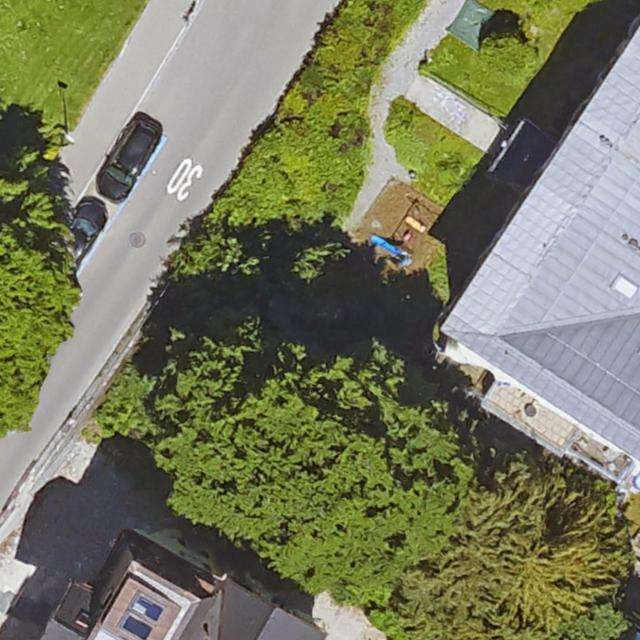tree: (151, 338, 462, 597), (439, 460, 630, 638), (1, 172, 77, 435), (172, 229, 261, 284), (477, 34, 535, 85), (100, 374, 147, 436), (290, 242, 350, 284)
